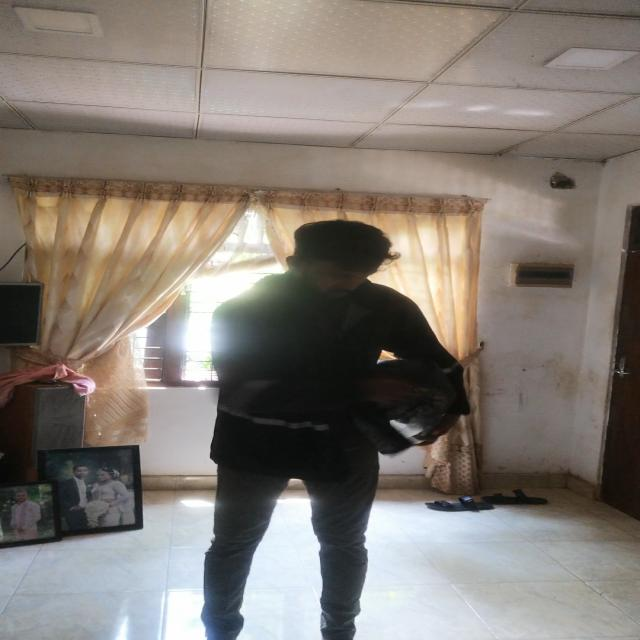Jacket_Wearer: (190, 271, 459, 481)
Person: (191, 219, 458, 640)
